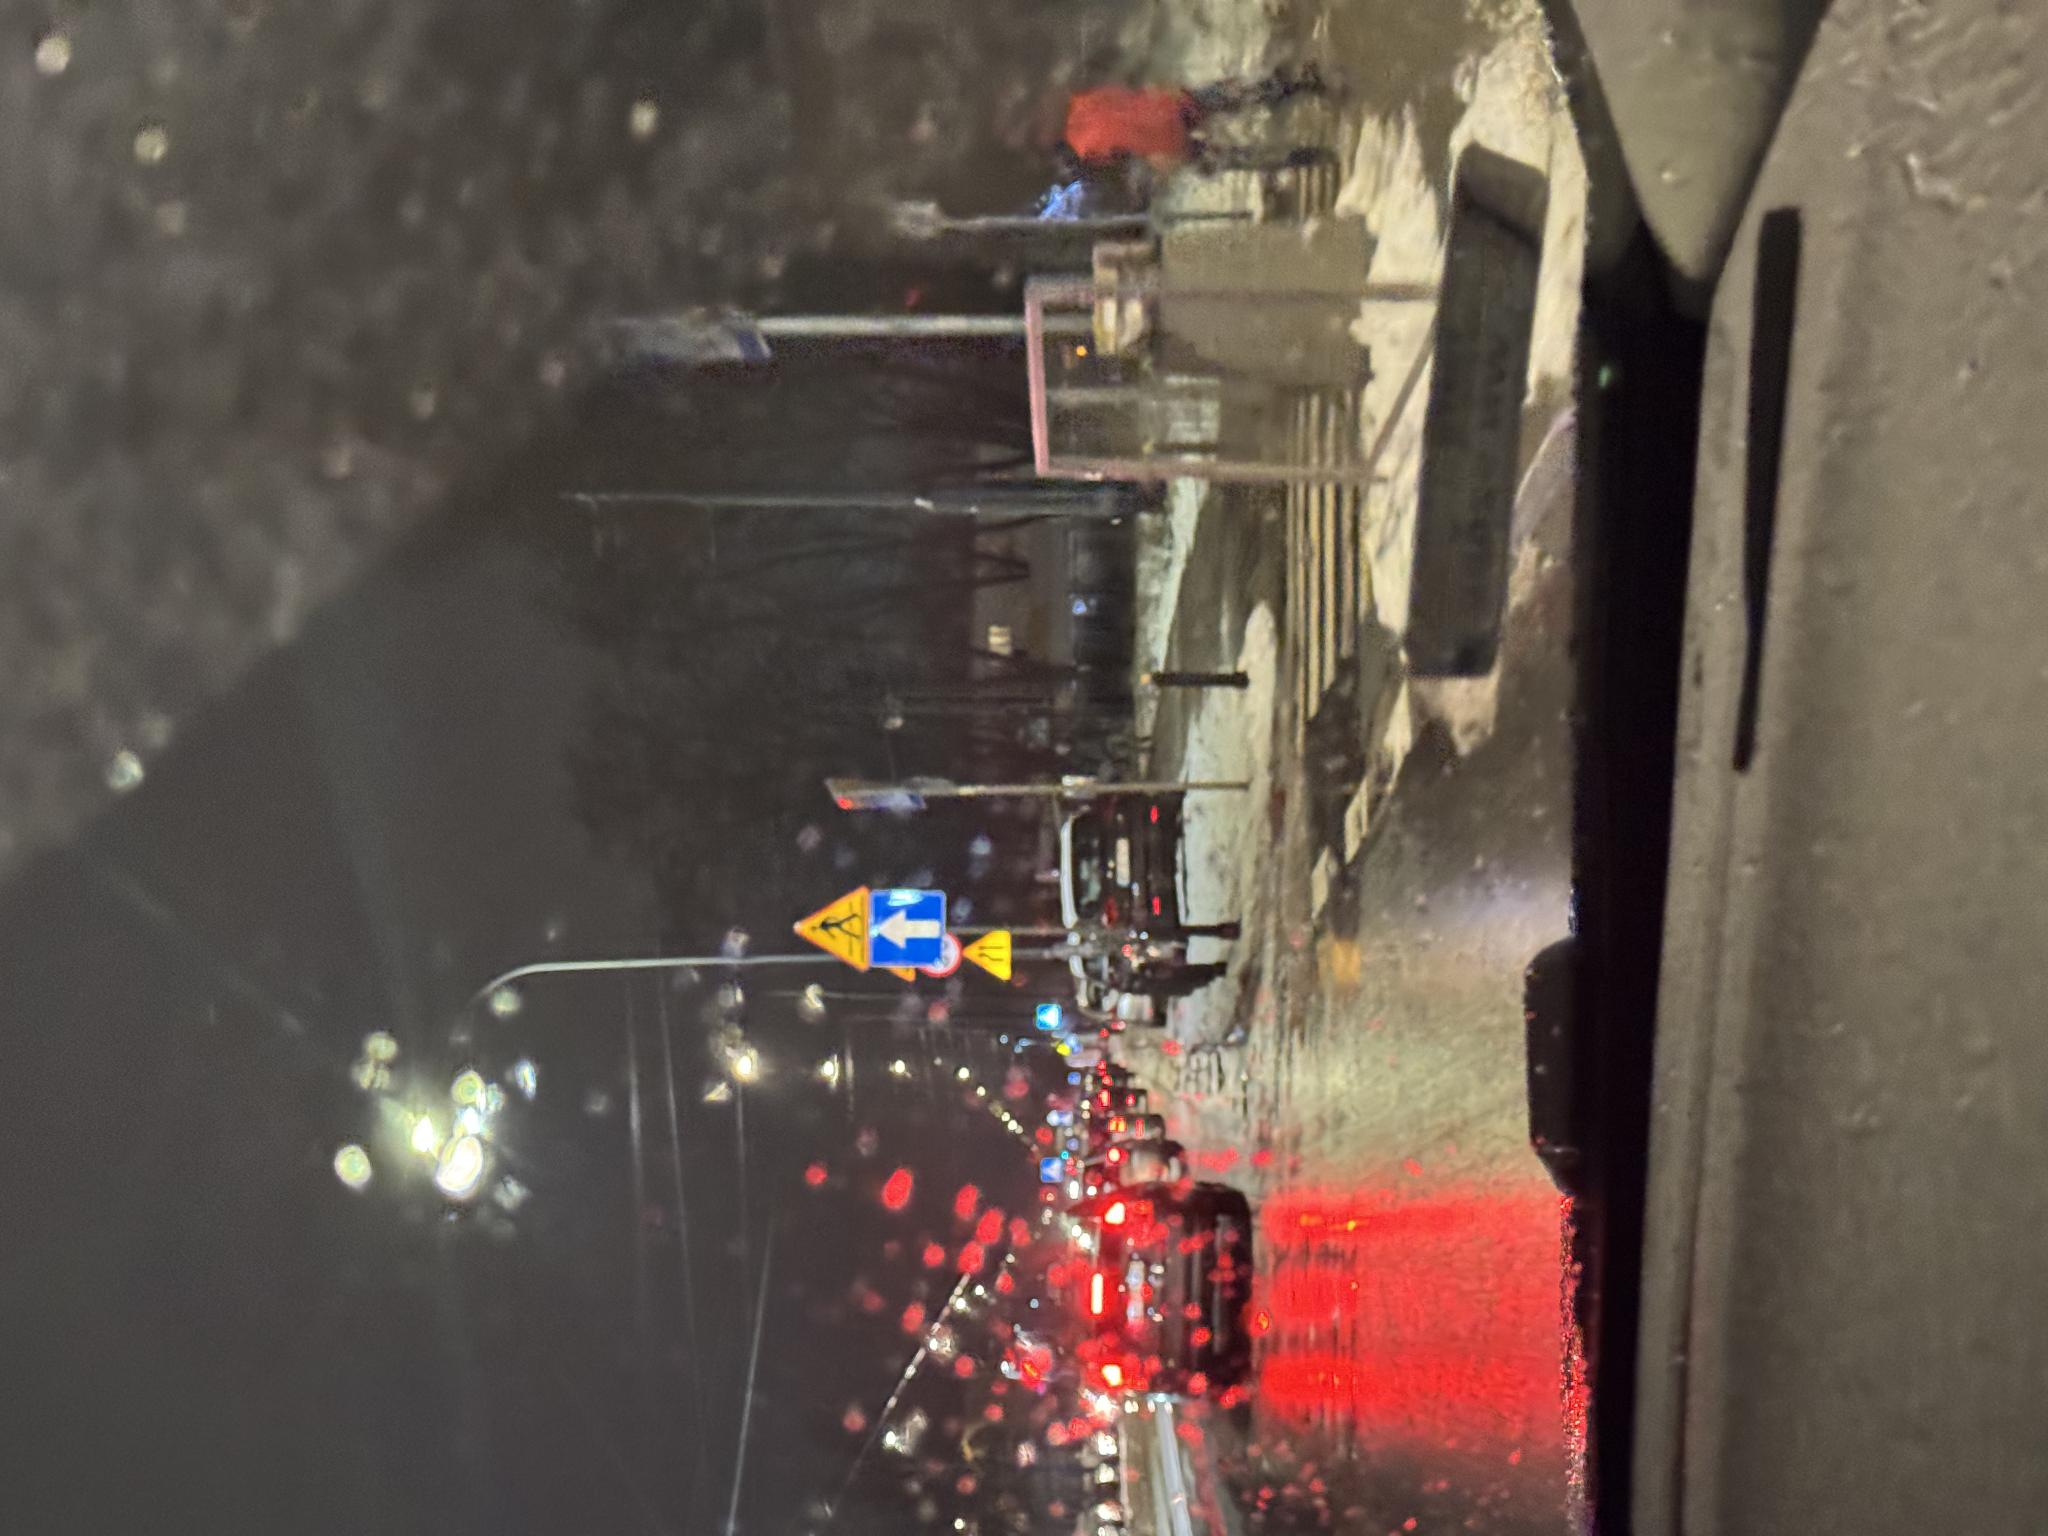information: (569, 870, 648, 947)
warning: (563, 792, 653, 871), (555, 962, 605, 1013)
